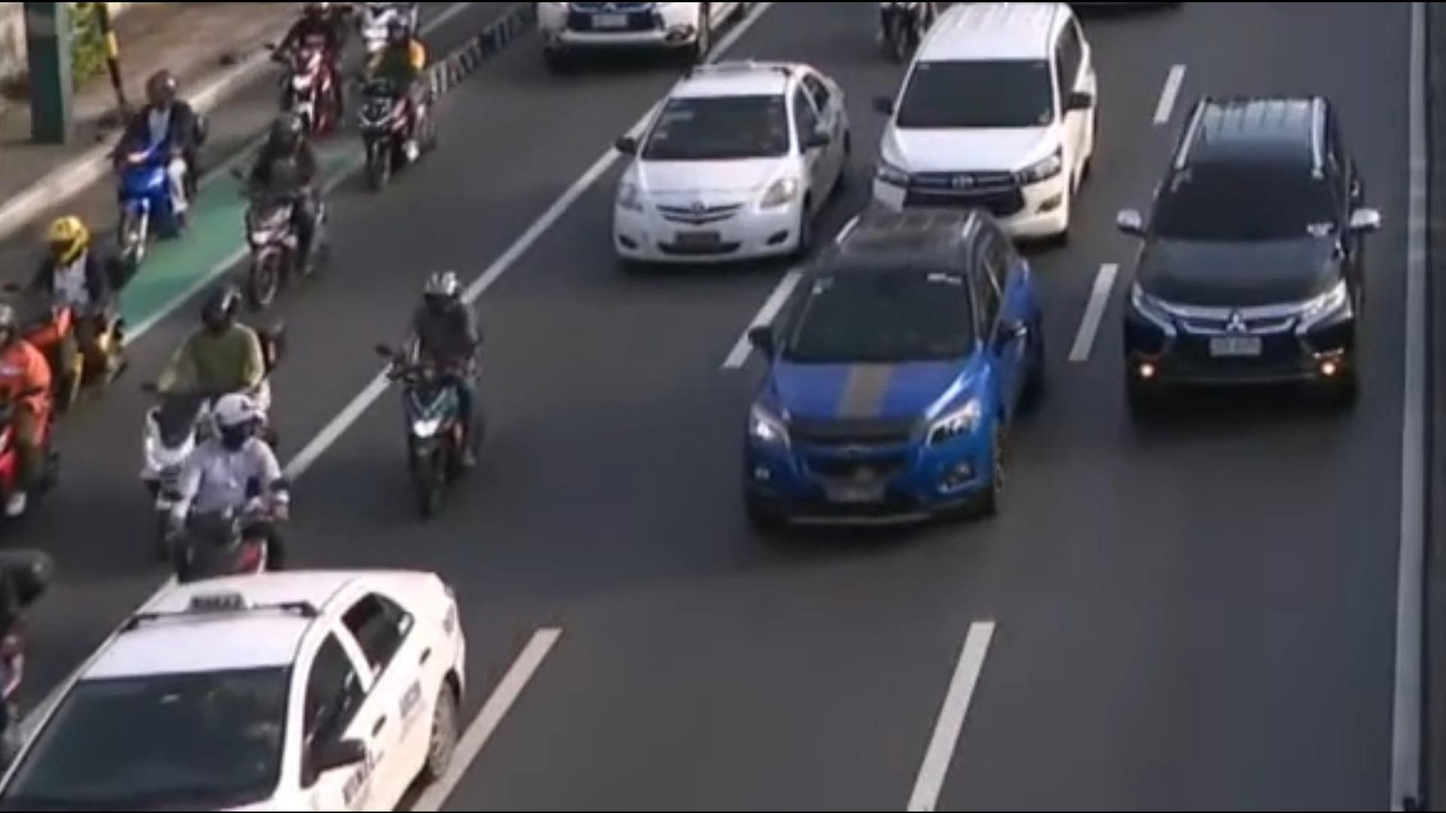Motorcycle: (363, 247, 509, 513), (136, 288, 294, 493), (159, 392, 283, 605), (108, 42, 208, 281), (32, 193, 134, 405), (231, 104, 336, 308), (351, 11, 442, 193)
SUV: (716, 166, 1056, 581), (1103, 50, 1385, 436), (863, 0, 1094, 257)
Sedan: (0, 527, 481, 813), (598, 44, 866, 273)
